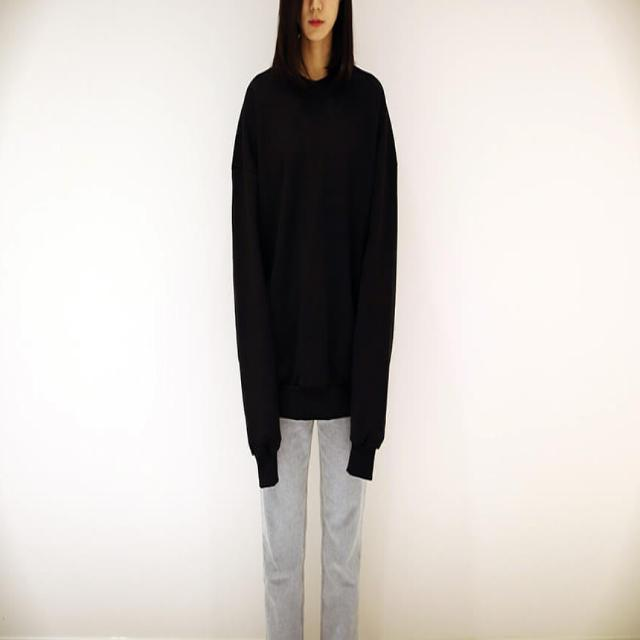sweater: (227, 61, 404, 489)
trousers: (255, 403, 373, 640)
